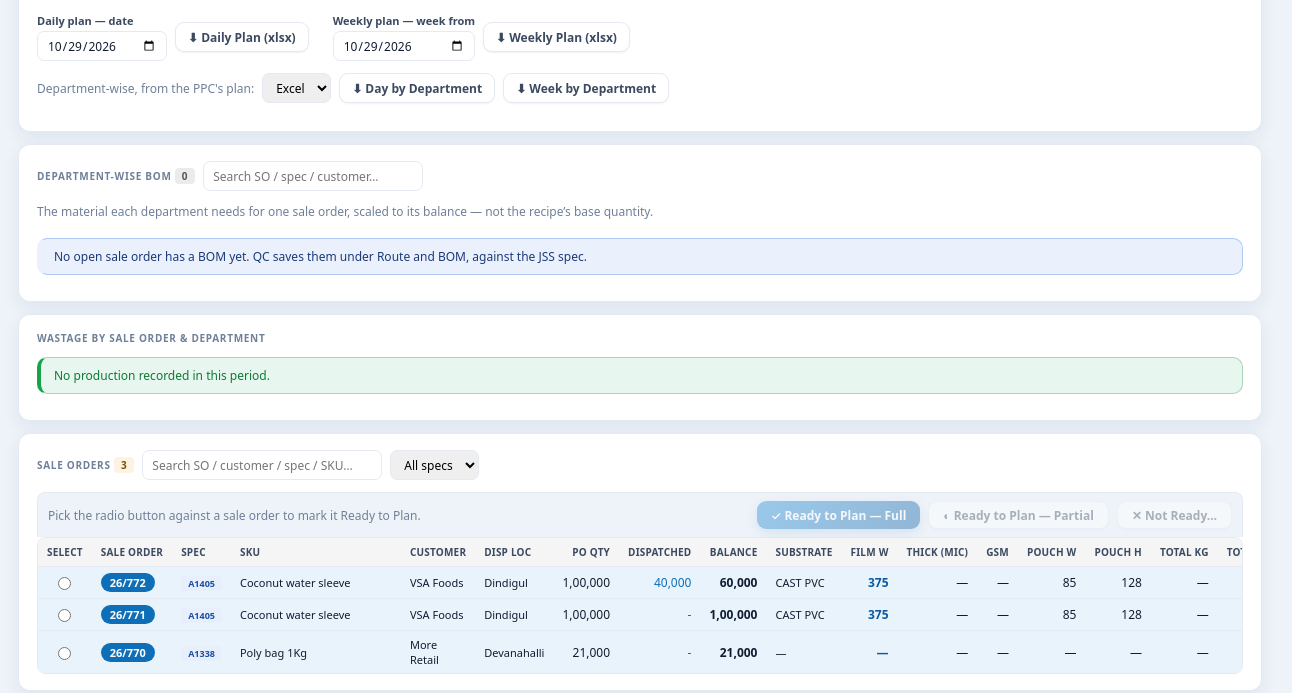
Test case: PLAN — the material a picked order needs › prints the scale, the department and every BOM line with what the order needs
(page scrolled)
Expected: the text "Sale orders 3" is shown, [37,457,134,473]
Click the radio button named "Select 26/771": (65, 616) [58,609,71,622]
(page scrolled)
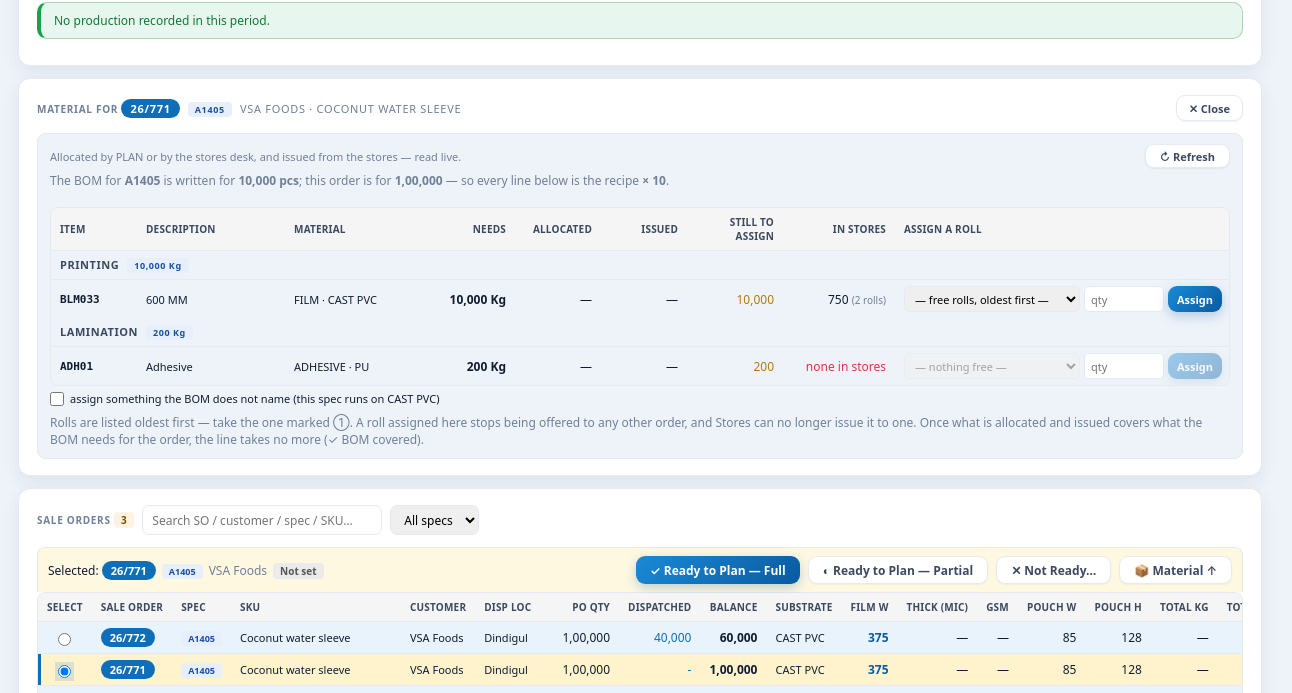
Expected: the element named "BOM scale" shows "10,000 pcs", [50,172,669,189]
Expected: the element named "BOM scale" shows "1,00,000", [395,172,443,189]
Expected: the element named "BOM scale" shows "× 10", [50,172,669,189]
